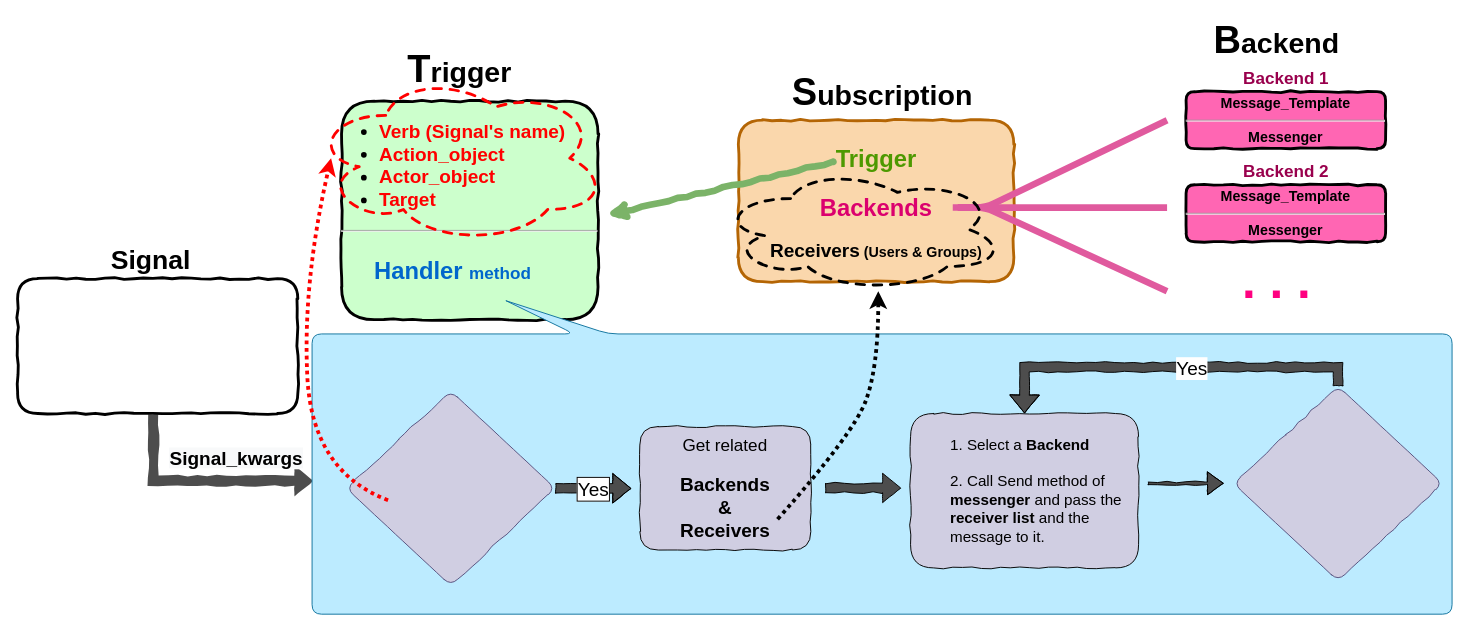
Some shapes in this 1469 by 631 pixel diagram are drawn without their labels. Each missing label, with the centre of its shape:
Does Signal_kwargs and Trigger's specs match?: [450,488]
Is there any backend?: [1338,483]
Signal's name Send method calling: [157,345]
